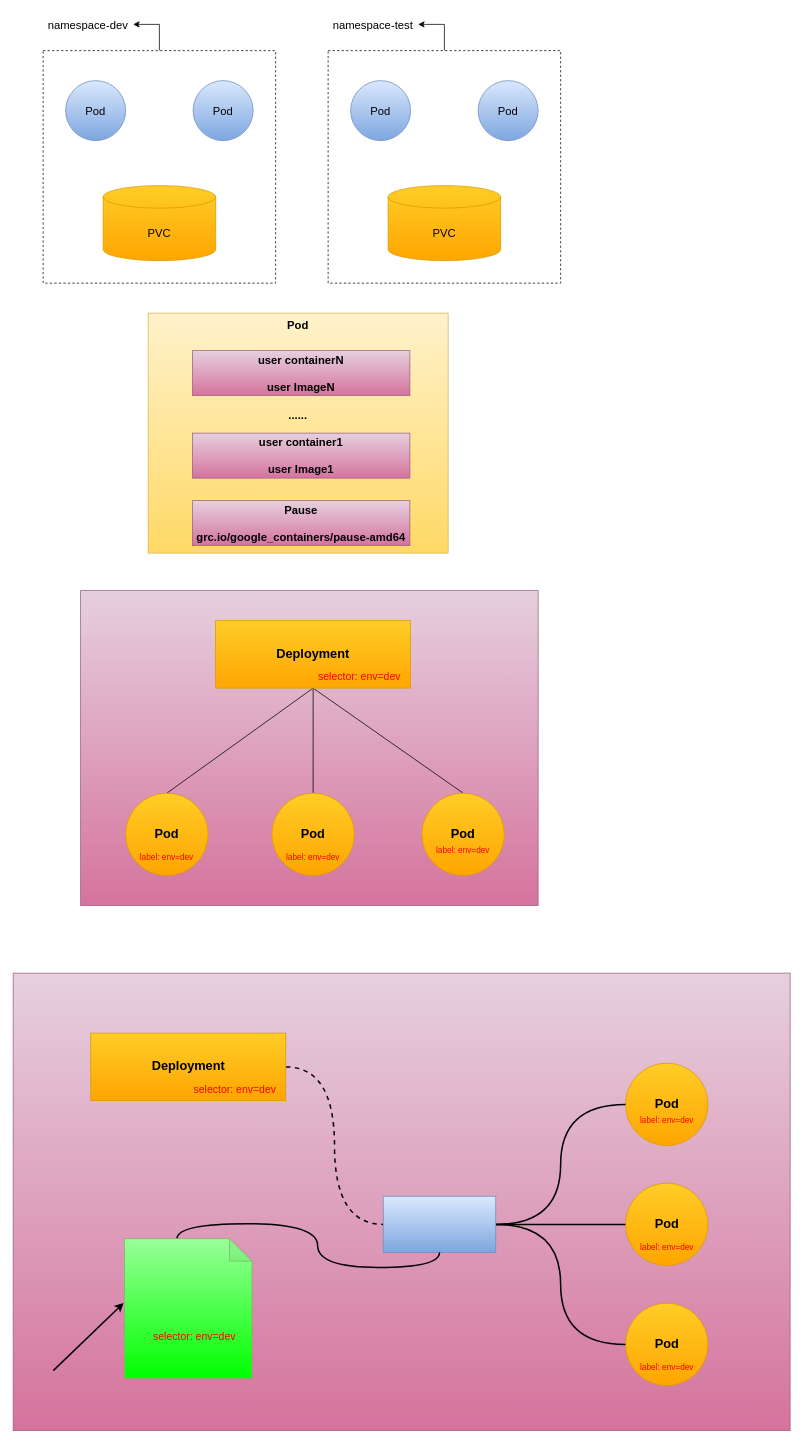
This 803x1444 diagram has some shape labels left out. Here are the shapes that lost their labels. From the top down, the box of each, then its label:
(382, 1196, 496, 1252): Label Selector
(124, 1238, 252, 1378): Service
